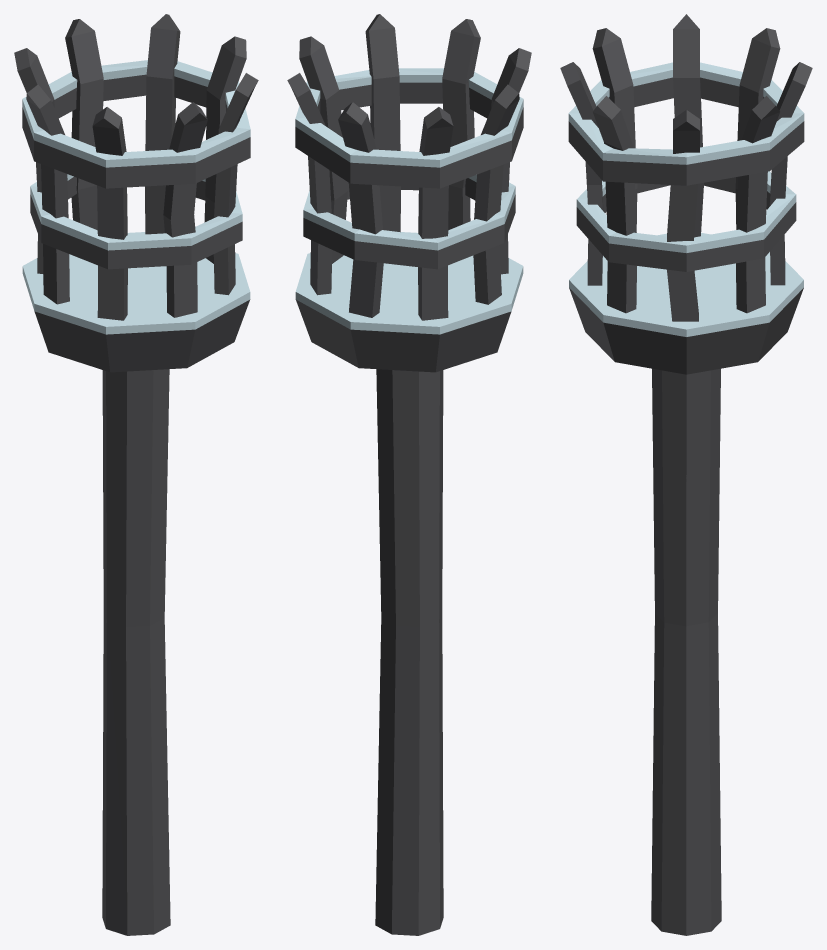
The model's file is SM_Prop_Brazier_01_Snow.glb.
3 renders of one model, left to right at view 1: azimuth 30°, elevation 25°; view 2: azimuth 150°, elevation 25°; view 3: azimuth 270°, elevation 25°, orthographic.
Visible parts, largest first — view 1: SM_Prp_Brazier_01_Snow; view 2: SM_Prp_Brazier_01_Snow; view 3: SM_Prp_Brazier_01_Snow.
Part boxes in pixels (x1,y1,x2,y2): SM_Prp_Brazier_01_Snow: (14, 14, 258, 935); SM_Prp_Brazier_01_Snow: (287, 14, 531, 935); SM_Prp_Brazier_01_Snow: (560, 14, 812, 935).
Bounding box in the file's own units: 0.5026 × 1.89 × 0.5026.
1 material, 1 textured.
